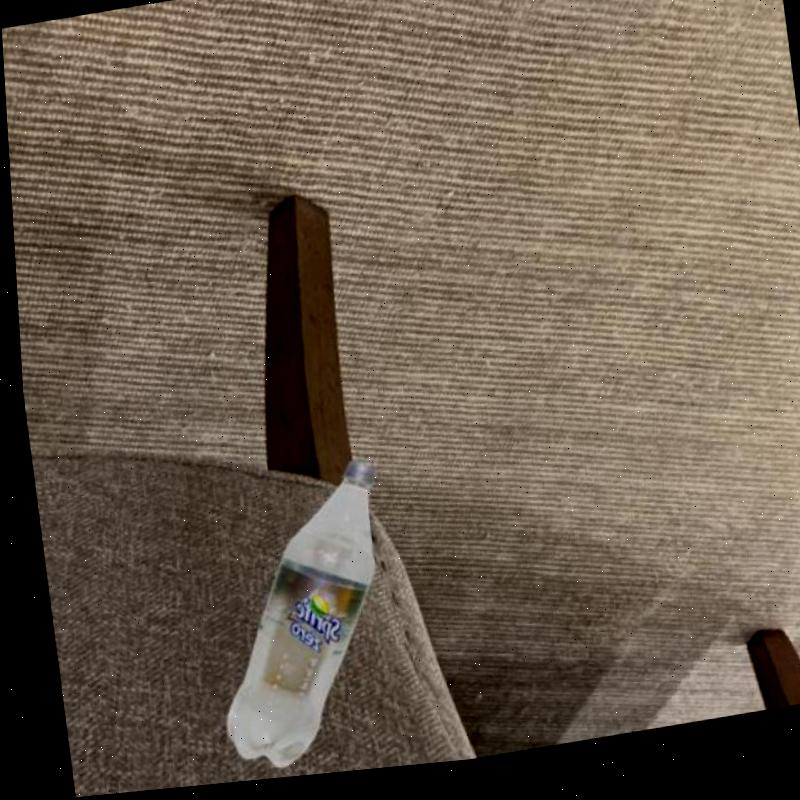botella: (179, 456, 401, 778)
